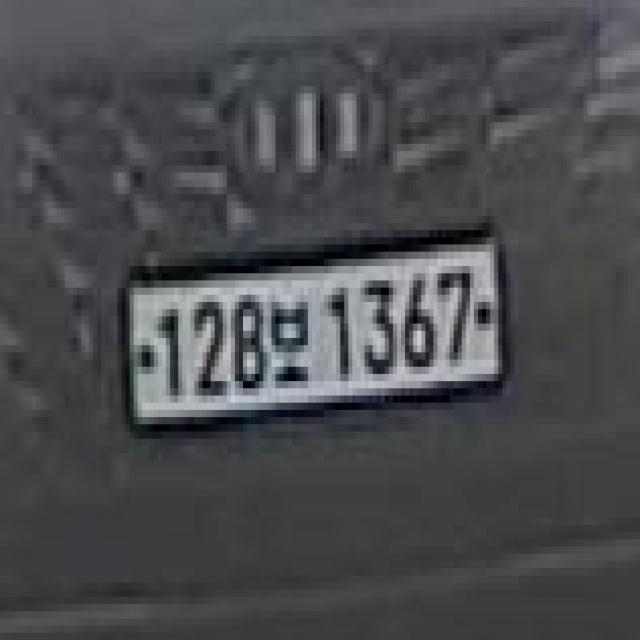illegal_plate: (118, 228, 510, 438)
